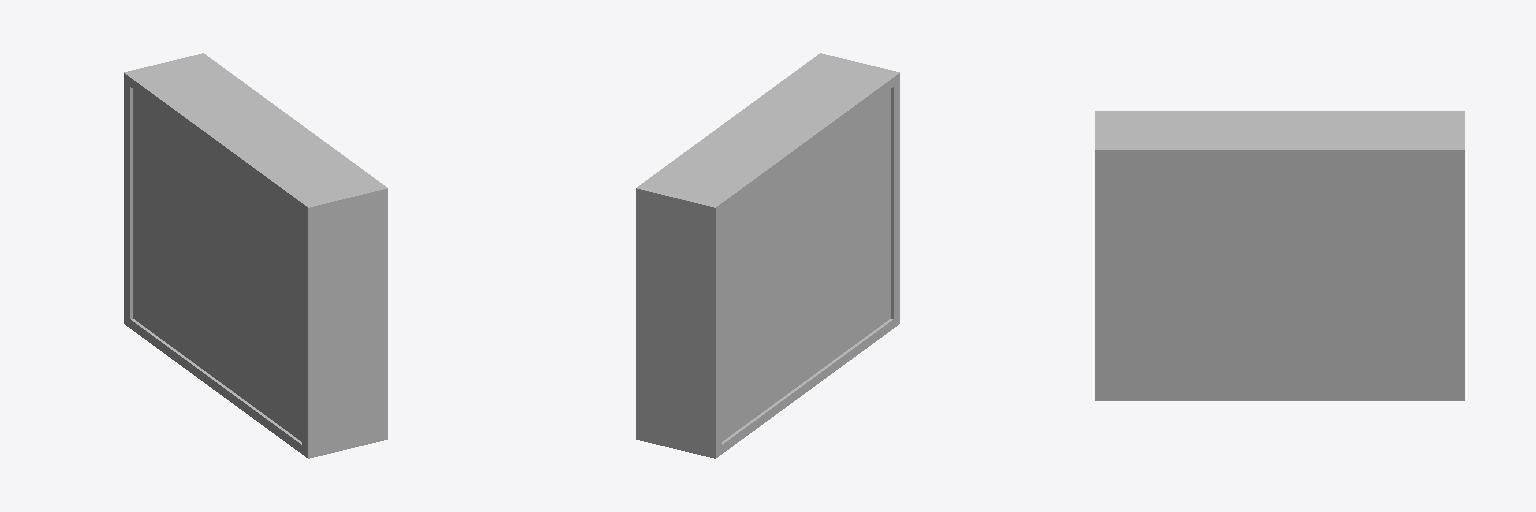
Rendered from display4x3.obj.
3 renders of one model, left to right at view 1: azimuth 30°, elevation 25°; view 2: azimuth 150°, elevation 25°; view 3: azimuth 270°, elevation 25°, orthographic.
Parts seen in each view (by area): view 1: Cube_Cube.006; view 2: Cube_Cube.006; view 3: Cube_Cube.006.
Boxes of the visible parts, x1,y1,x2,y2 form: Cube_Cube.006: [124, 53, 387, 458]; Cube_Cube.006: [636, 53, 899, 458]; Cube_Cube.006: [1095, 111, 1464, 400].
Size of the model in its own units: 1 by 3 by 4.